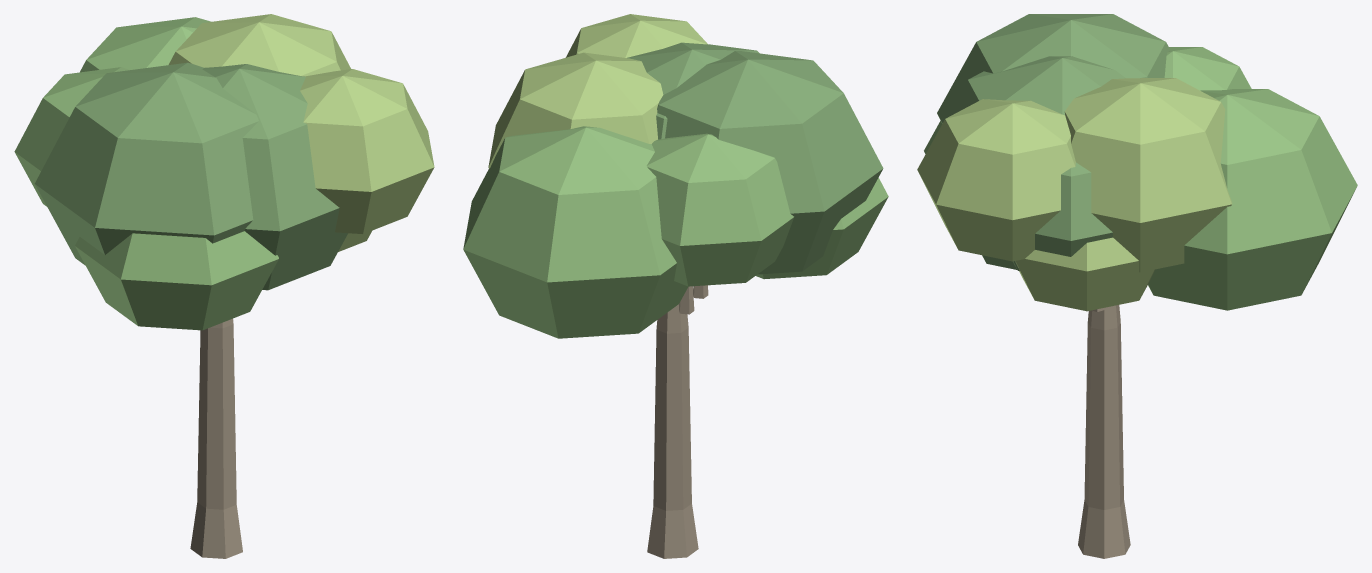
The model's file is fv_tree.glb.
3 views of the same model, side by side, from view 1: azimuth 30°, elevation 25°; view 2: azimuth 150°, elevation 25°; view 3: azimuth 270°, elevation 25° (orthographic). The views are drawn at different scales.
Parts seen in each view (by area): view 1: fv_tree; view 2: fv_tree; view 3: fv_tree.
Part boxes in pixels (x1=…): fv_tree: x1=14, y1=14, x2=434, y2=558; fv_tree: x1=463, y1=14, x2=888, y2=558; fv_tree: x1=917, y1=14, x2=1357, y2=558.
Size of the model in its own units: 4.51 by 6.5 by 5.21.
